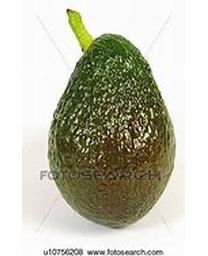avocado: (45, 32, 178, 233)
